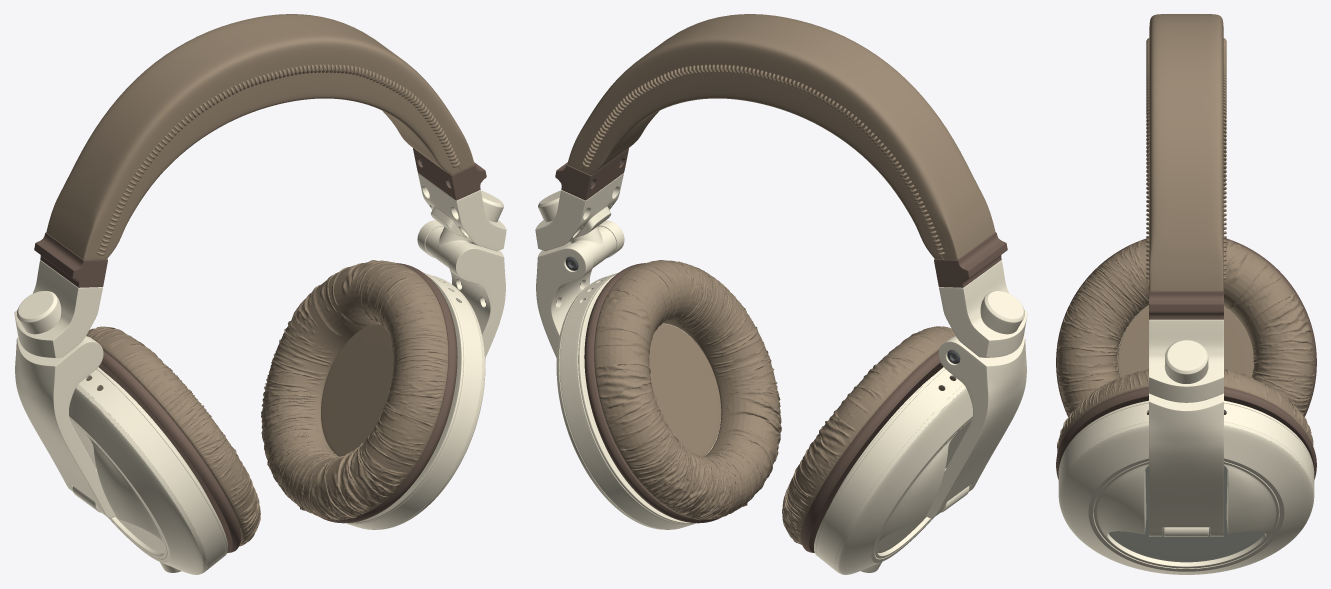
Rendered from modelHeadPhone-transformed.glb.
The picture shows the model from 3 angles, left to right: view 1: azimuth 30°, elevation 25°; view 2: azimuth 150°, elevation 25°; view 3: azimuth 270°, elevation 25°; orthographic projection. The views are drawn at different scales.
Visible parts, largest first — view 1: a2, a1, a2.001, a1.002; view 2: a2, a1, a2.001, a1.002; view 3: a1, a2, a2.001, a1.002, a1.001.
Part boxes in pixels (x1,y1,x2,y2): a2: (86, 64, 459, 546); a1: (14, 173, 506, 574); a2.001: (46, 14, 474, 259); a1.002: (34, 148, 486, 552); a2: (582, 64, 955, 544); a1: (535, 173, 1027, 574); a2.001: (567, 14, 995, 259); a1.002: (555, 148, 1007, 552); a1: (1058, 199, 1314, 574); a2: (1057, 38, 1314, 454); a2.001: (1149, 14, 1223, 291); a1.002: (1056, 124, 1316, 479); a1.001: (1108, 466, 1264, 562).
Bounding box in the file's own units: 2.91 × 2.99 × 1.41.
